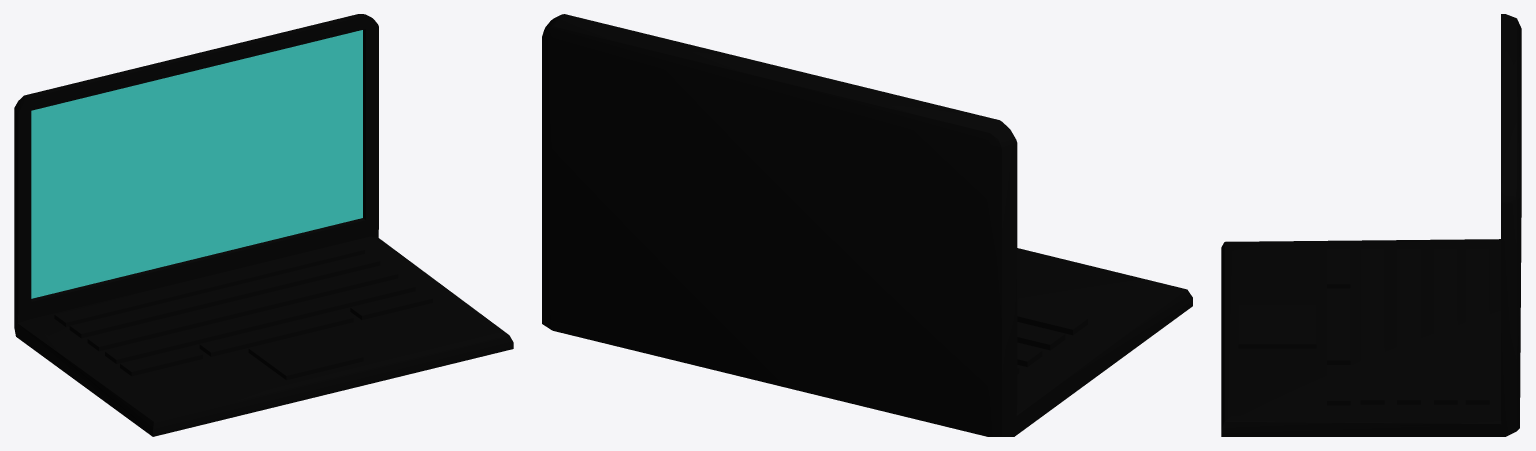
The model's file is Laptop.fbx.
The picture shows the model from 3 angles, left to right: view 1: azimuth 30°, elevation 25°; view 2: azimuth 150°, elevation 25°; view 3: azimuth 270°, elevation 25°; orthographic projection. The views are drawn at different scales.
Parts seen in each view (by area): view 1: Laptop, Laptop Glow; view 2: Laptop; view 3: Laptop.
Boxes of the visible parts, x1,y1,x2,y2 form: Laptop: (14,14,513,436); Laptop Glow: (31,30,362,298); Laptop: (542,14,1192,436); Laptop: (1221,14,1521,436).
Size of the model in its own units: 61.3 by 38.65 by 42.59.
